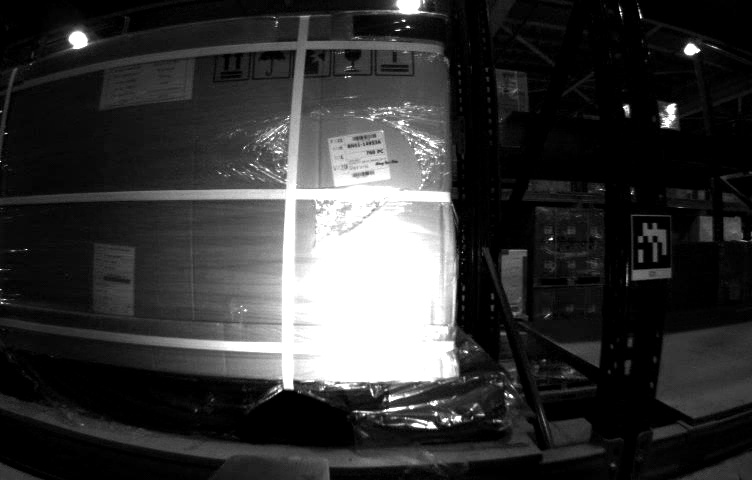True Barcode: (324, 130, 387, 187)
